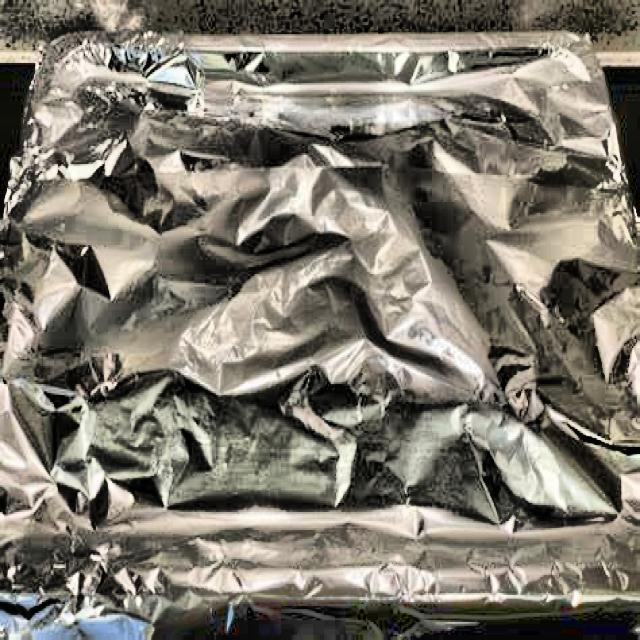Foil: (0, 22, 640, 638)
